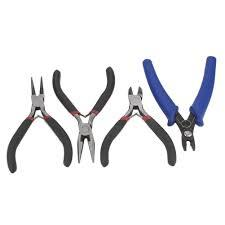pliers: (99, 85, 177, 166), (51, 68, 116, 164), (6, 74, 72, 167)
